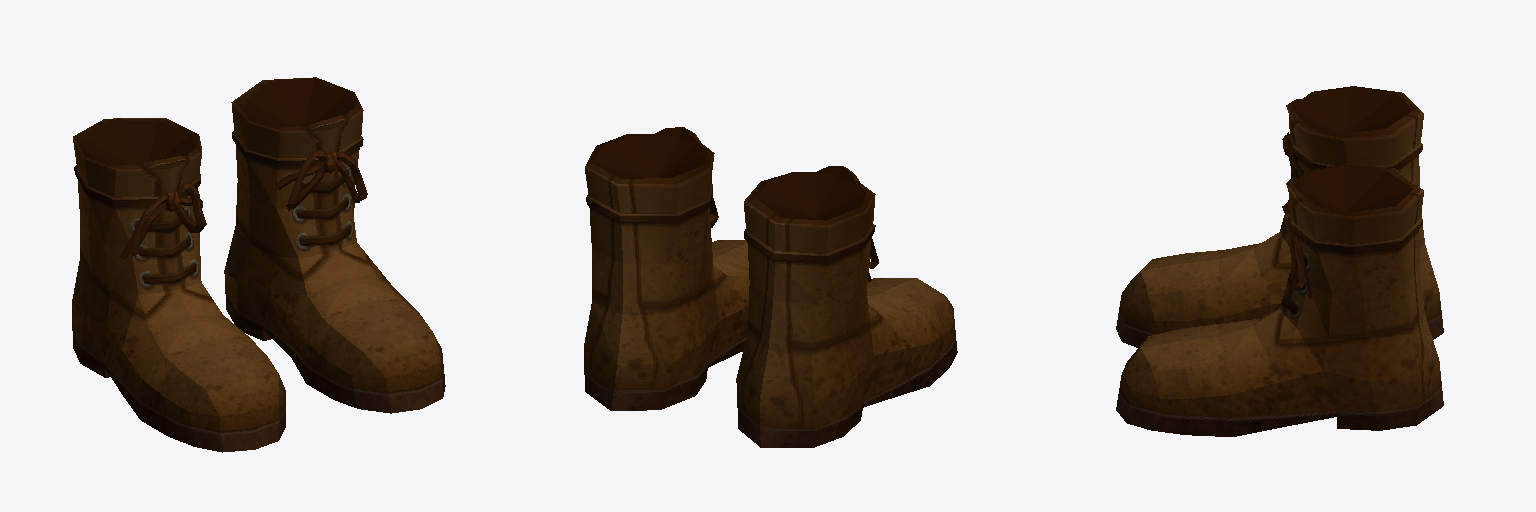
3 views of the same model, side by side, from view 1: azimuth 30°, elevation 25°; view 2: azimuth 150°, elevation 25°; view 3: azimuth 270°, elevation 25° (orthographic).
Visible parts, largest first — view 1: c_shoes_mesh; view 2: c_shoes_mesh; view 3: c_shoes_mesh.
Part boxes in pixels (left/top/right/bottom): c_shoes_mesh: left=72, top=77, right=445, bottom=452; c_shoes_mesh: left=584, top=127, right=957, bottom=447; c_shoes_mesh: left=1116, top=86, right=1443, bottom=436.
Size of the model in its own units: 15.45 by 12.07 by 15.81.
Materials: 1 (1 with a texture image).